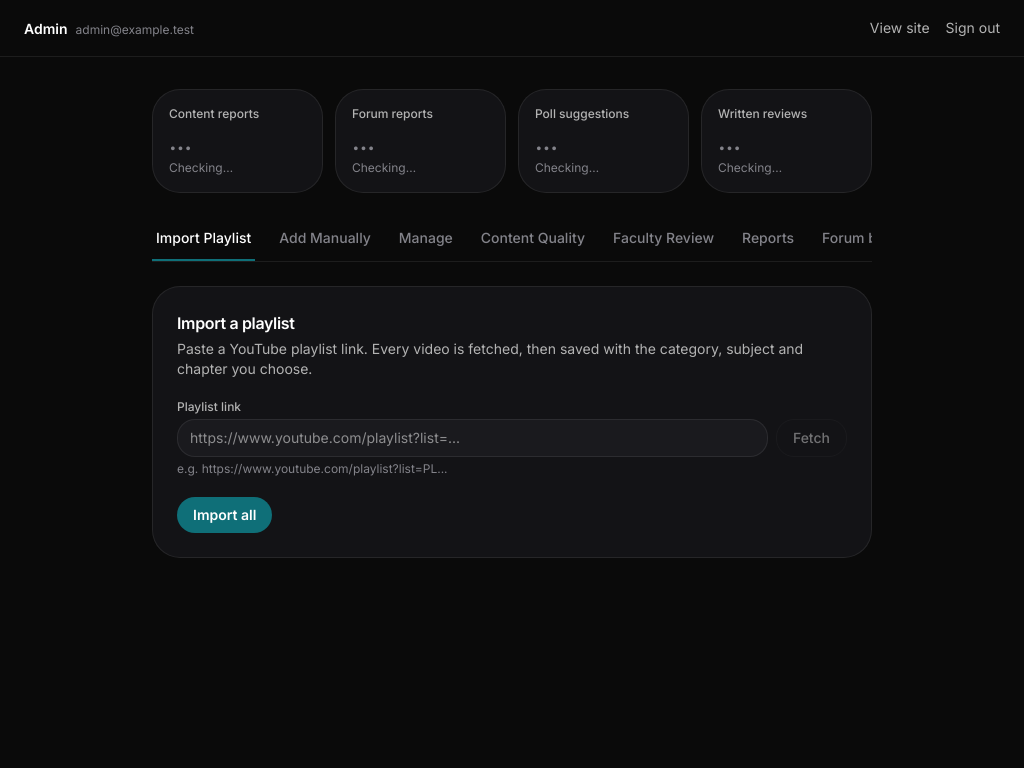
Test case: AdminPanel moderation digest › jumps to the Reviews tab when the reviews counter is clicked
What coordinates should you click on to do the following:
click the button "Written reviews … Checking…"
I would click on:
 (786, 141)
Its box is [701,89,872,193].
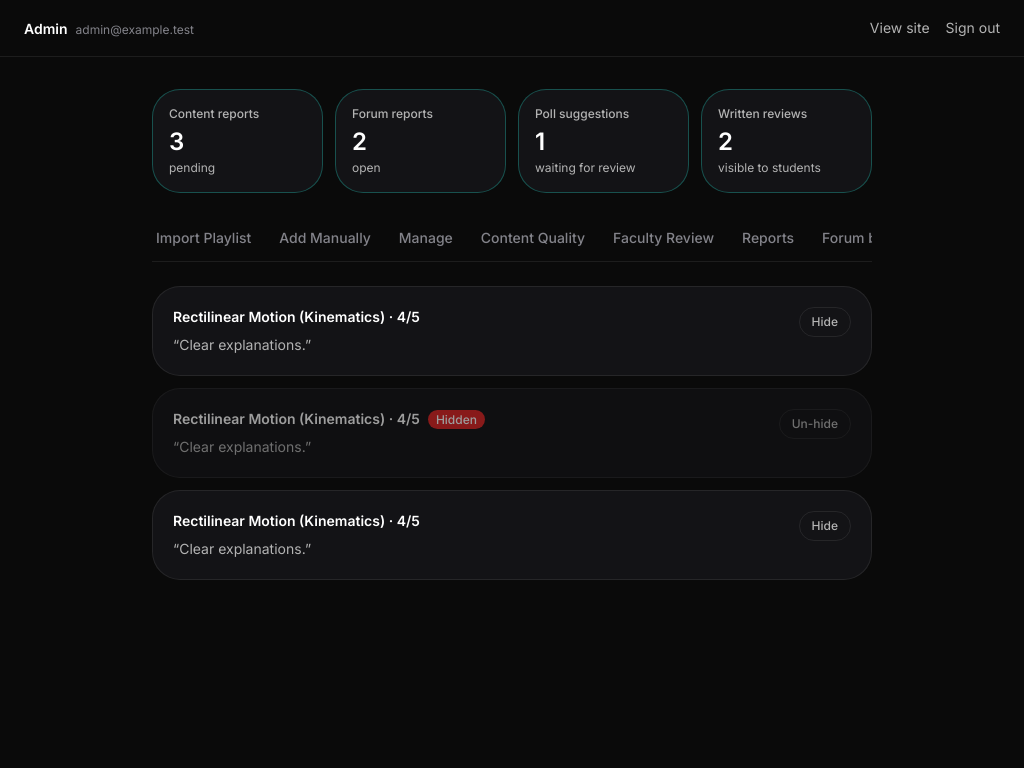
Result: the 1st text "Rectilinear Motion (Kinematics) · 4/5" is shown at [173,307,420,327]
